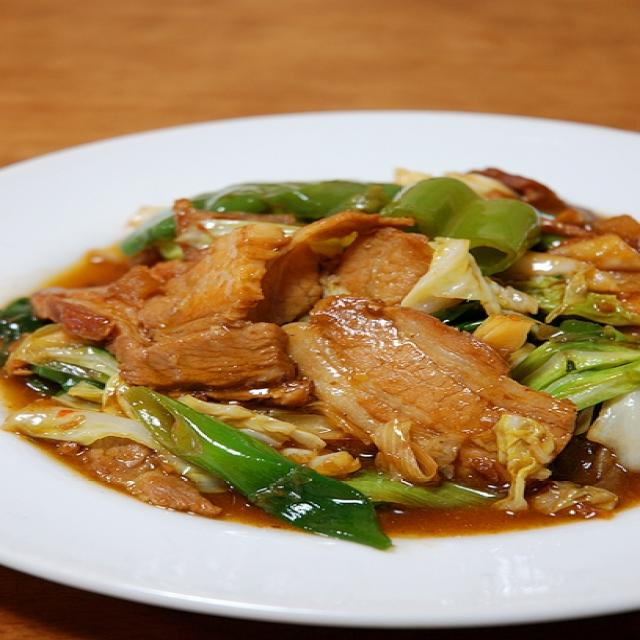寿司卷物: (13, 253, 293, 578)
